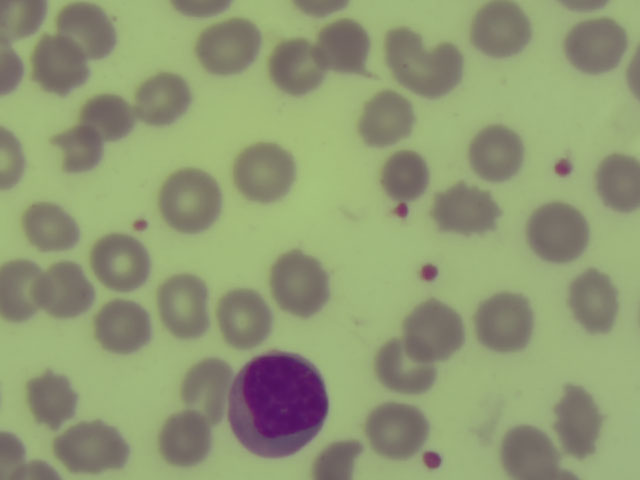Platelets: (549, 154, 580, 182), (416, 259, 443, 287), (422, 448, 446, 472), (128, 215, 154, 237), (392, 199, 411, 224)
RBC: (178, 348, 232, 426), (58, 419, 127, 469), (500, 422, 557, 480), (30, 38, 88, 95), (272, 255, 329, 312), (216, 288, 273, 345), (552, 389, 609, 446), (370, 400, 427, 457), (377, 337, 434, 394), (407, 301, 464, 358), (159, 173, 216, 230), (475, 293, 532, 350), (566, 272, 623, 329), (530, 204, 587, 261), (565, 17, 622, 74), (472, 2, 529, 59), (467, 124, 524, 181), (439, 179, 496, 236), (155, 407, 212, 464), (21, 369, 78, 426), (374, 146, 431, 203), (154, 274, 211, 331), (94, 296, 151, 353), (91, 233, 148, 290), (35, 261, 92, 318), (24, 197, 81, 254), (355, 90, 412, 147), (396, 36, 453, 93), (316, 15, 373, 72), (267, 39, 324, 96), (198, 19, 255, 76), (49, 118, 106, 175), (83, 88, 140, 145), (133, 72, 190, 129), (59, 1, 116, 57), (594, 149, 640, 217), (235, 141, 292, 195), (1, 261, 46, 324), (308, 435, 359, 480), (1, 123, 30, 189), (1, 1, 47, 39), (1, 427, 30, 480), (1, 35, 24, 97)
WBC: (232, 351, 332, 453)
